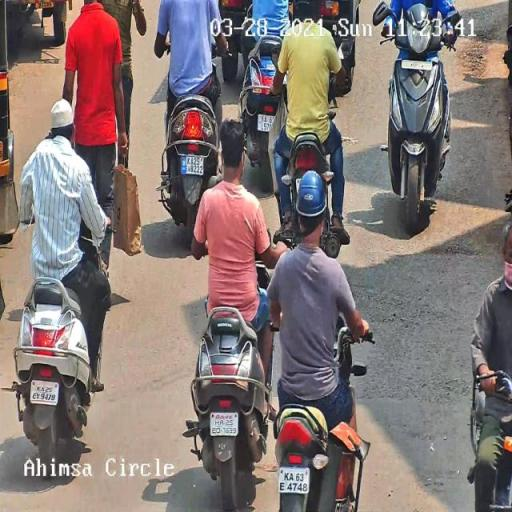using mobile: (43, 129, 55, 141)
